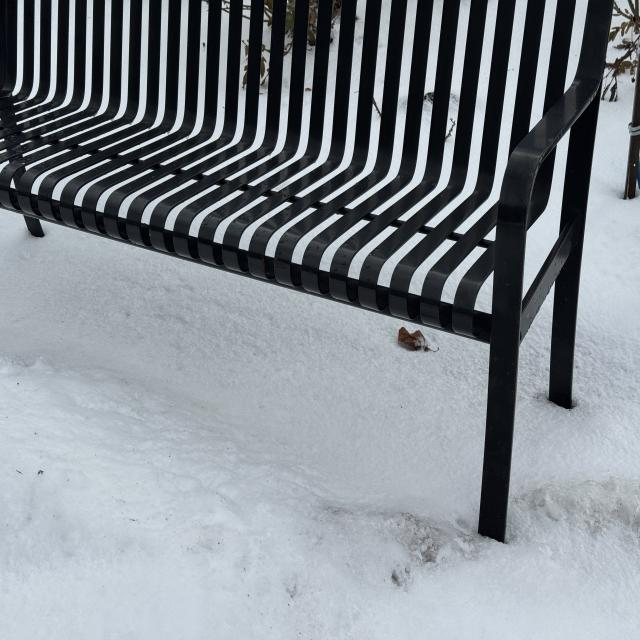Bench: (3, 2, 602, 539)
